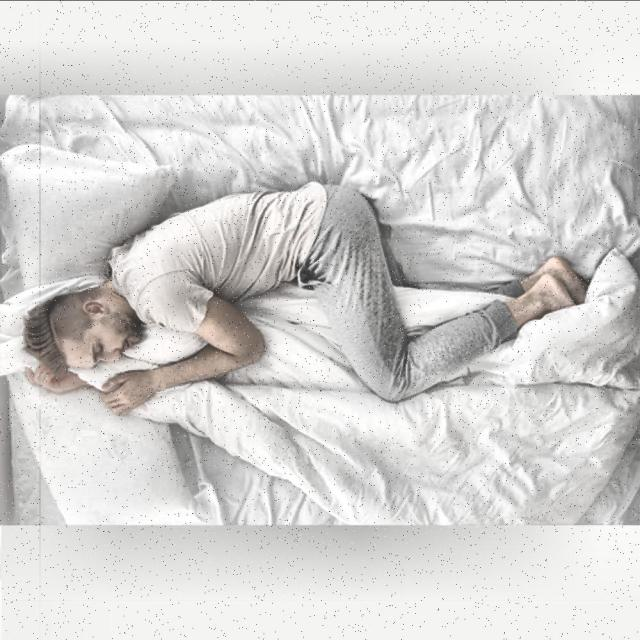Not_Supine: (24, 182, 588, 414)
